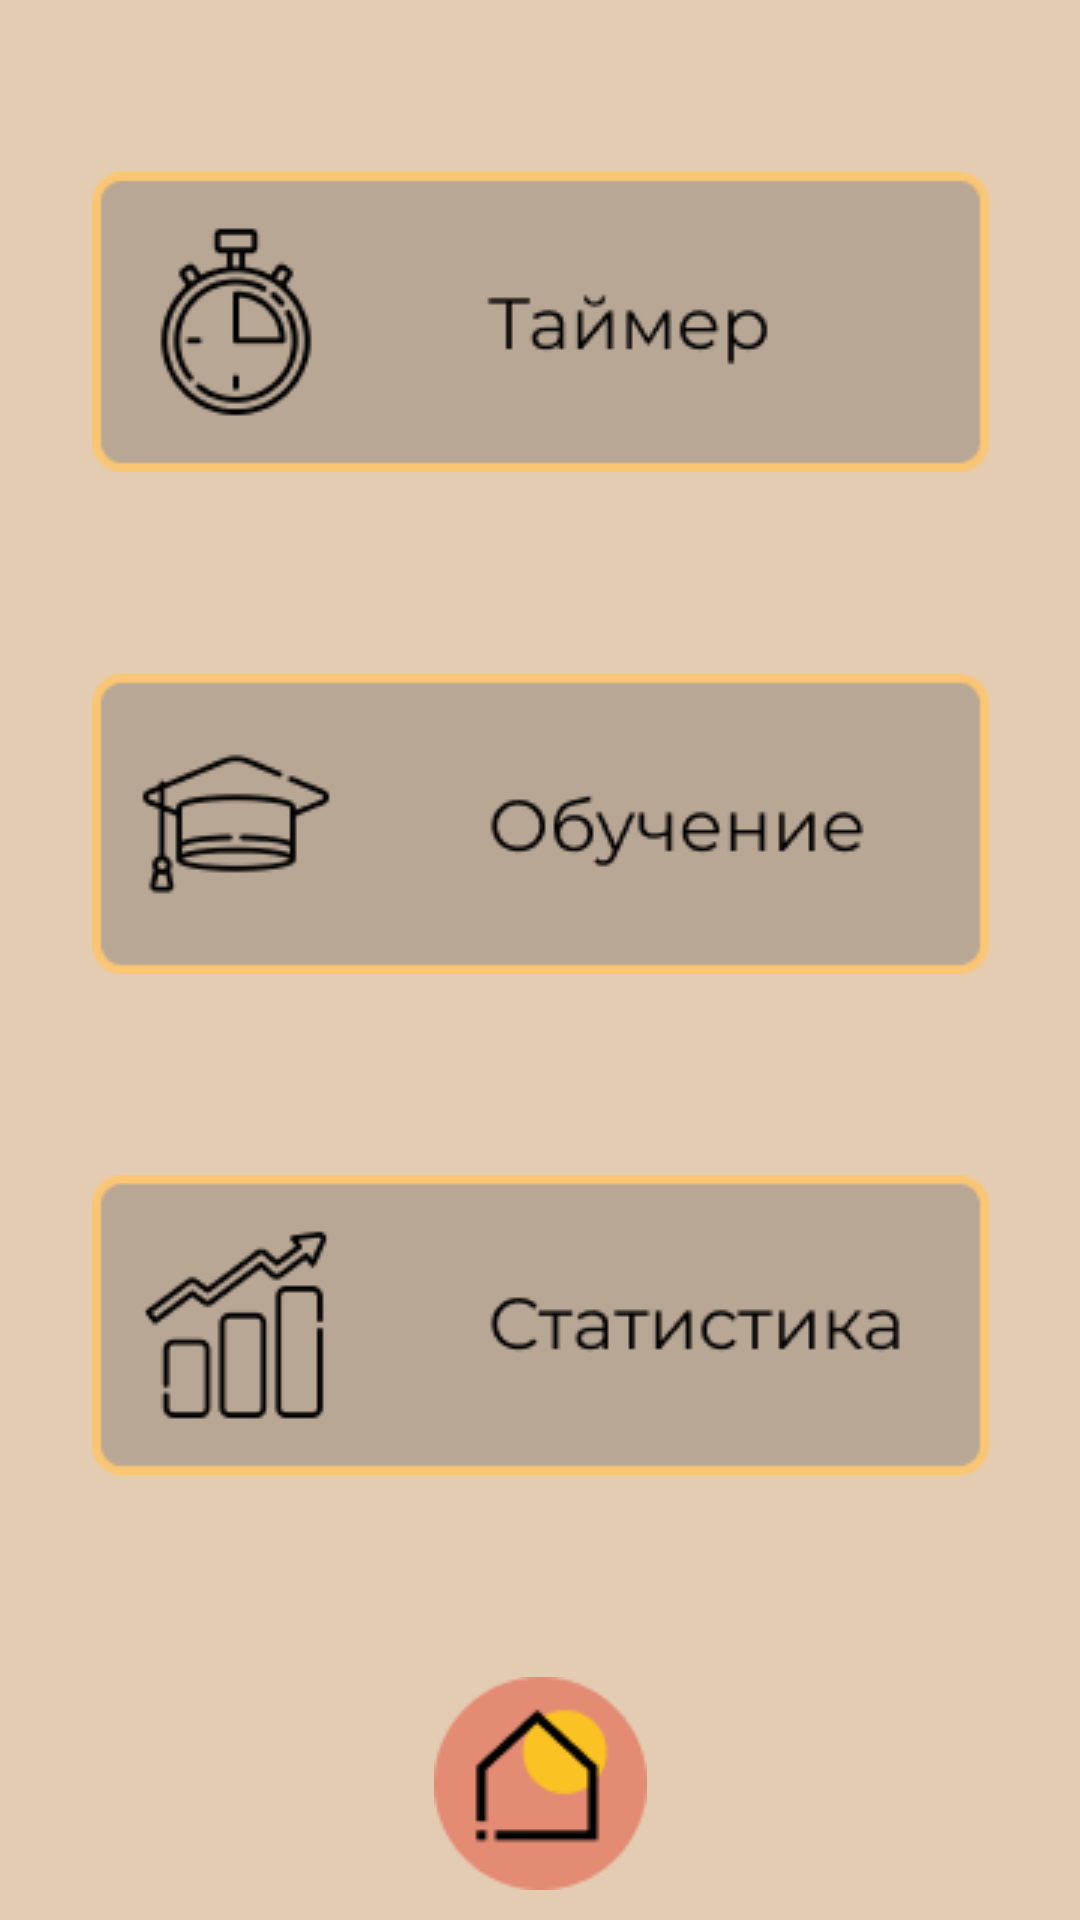

Where to tap for icons on this 1080px×1920px app screen, as point (x, y):
home: point (540, 1783)
